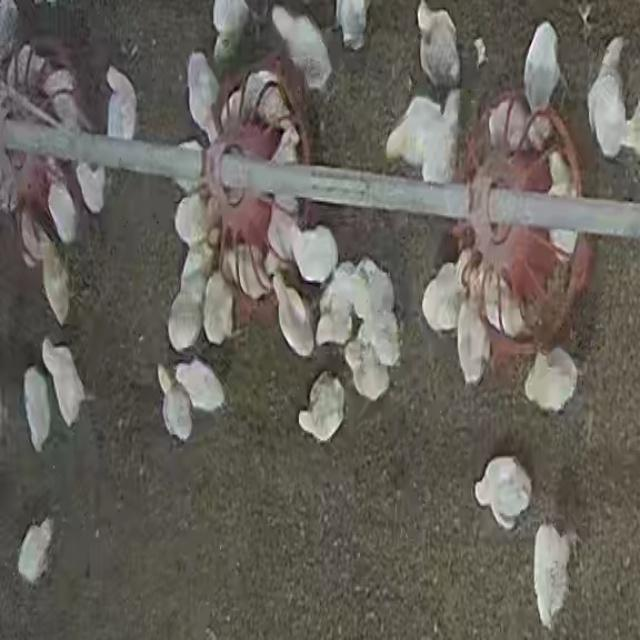chicken: (272, 2, 332, 96), (586, 35, 630, 155), (533, 522, 583, 626), (474, 456, 533, 532), (34, 230, 82, 322), (42, 338, 91, 428), (415, 2, 463, 86), (520, 348, 579, 414), (379, 100, 438, 165), (298, 368, 346, 446), (472, 267, 527, 335), (519, 20, 561, 109), (274, 273, 314, 359), (188, 51, 224, 144), (419, 259, 464, 333), (342, 257, 399, 312), (155, 363, 193, 443), (288, 224, 338, 284), (174, 230, 222, 292), (428, 89, 459, 184), (101, 66, 137, 146), (176, 361, 229, 414), (16, 516, 56, 586), (547, 150, 574, 253), (42, 177, 86, 240), (454, 305, 488, 385), (246, 71, 292, 130), (359, 312, 404, 370), (22, 362, 50, 454), (480, 98, 527, 150), (165, 288, 203, 352), (347, 345, 392, 399), (209, 0, 248, 62), (315, 287, 353, 346), (205, 275, 234, 349), (74, 161, 113, 214), (172, 195, 214, 243), (225, 249, 269, 293), (267, 205, 299, 261), (338, 0, 372, 51)
